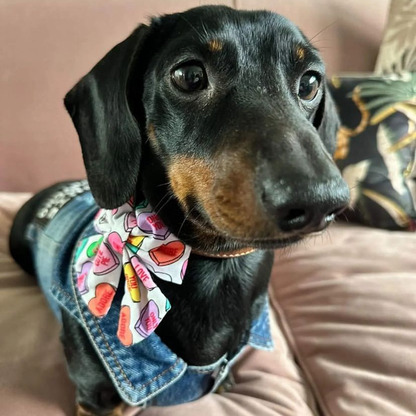dachshund: (54, 2, 363, 334)
